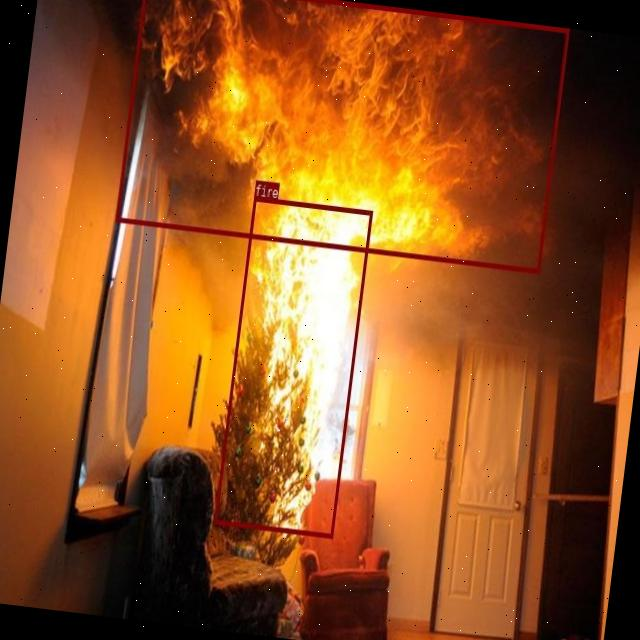fire: (113, 0, 567, 272), (214, 195, 372, 536)
